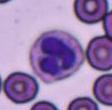N: (30, 30, 84, 82)
